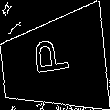P_W: (32, 42, 75, 84)
